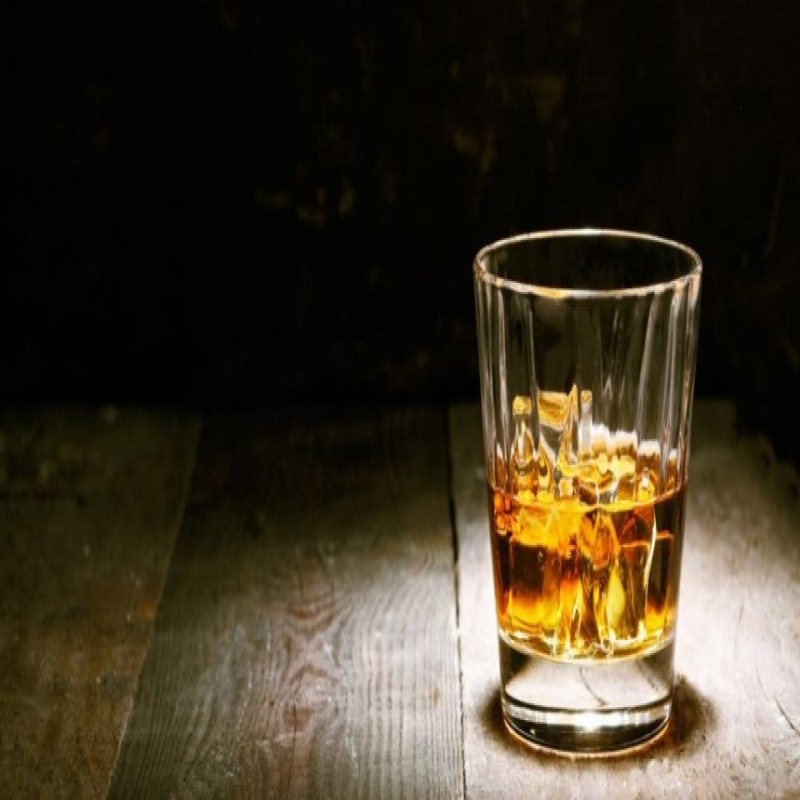whiskey: (472, 230, 720, 742)
